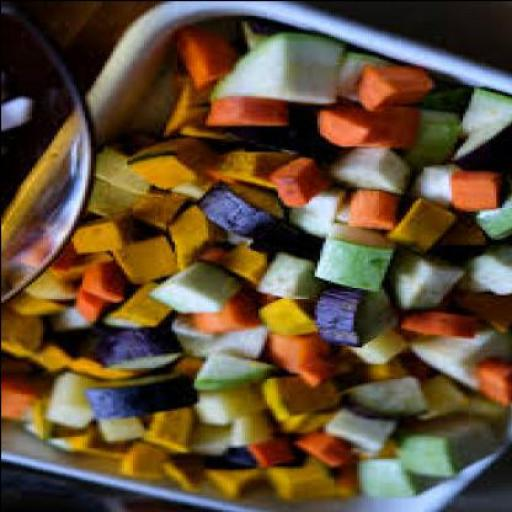biodegradable: (204, 31, 347, 108), (224, 104, 336, 169), (394, 422, 496, 480), (411, 334, 511, 392), (321, 286, 400, 350), (148, 260, 241, 314), (193, 179, 260, 253), (389, 251, 468, 313), (450, 85, 511, 165), (89, 376, 201, 419), (322, 227, 394, 292), (129, 143, 212, 194), (173, 322, 271, 365), (330, 148, 411, 198), (176, 28, 235, 95), (92, 330, 185, 372), (392, 201, 458, 259), (338, 380, 431, 419), (336, 54, 406, 105), (361, 68, 437, 114), (406, 112, 464, 170), (318, 110, 398, 152), (112, 234, 178, 284), (207, 96, 294, 132), (194, 356, 274, 395), (324, 410, 397, 452), (272, 460, 338, 505), (168, 214, 221, 270), (194, 296, 264, 338), (426, 378, 492, 422), (272, 378, 338, 421), (260, 256, 324, 300), (356, 462, 422, 504), (277, 156, 330, 207), (162, 82, 210, 138), (226, 149, 288, 192), (134, 190, 196, 232), (50, 372, 101, 423), (11, 266, 79, 304), (277, 338, 338, 380), (114, 286, 174, 328), (33, 404, 90, 446), (98, 149, 148, 196), (297, 190, 344, 240), (73, 218, 134, 256), (258, 302, 322, 338), (400, 313, 479, 342), (464, 249, 512, 296), (459, 292, 511, 334), (81, 262, 128, 308), (450, 170, 501, 212), (3, 378, 50, 422), (3, 315, 50, 359), (148, 411, 196, 454), (67, 428, 131, 460), (9, 292, 75, 322), (350, 190, 397, 232), (213, 464, 266, 501), (196, 390, 263, 419), (23, 238, 87, 268), (302, 432, 353, 469), (227, 248, 271, 290), (232, 16, 280, 54), (92, 180, 140, 218), (123, 440, 165, 482), (356, 336, 408, 368), (475, 199, 511, 245), (417, 168, 456, 210), (28, 345, 82, 374), (193, 423, 233, 462), (235, 414, 277, 450), (249, 434, 294, 467), (168, 456, 207, 493), (184, 121, 244, 145), (481, 363, 511, 411), (409, 417, 481, 437), (78, 285, 113, 325), (198, 415, 233, 454), (364, 361, 411, 386), (473, 402, 507, 436), (302, 358, 344, 385), (437, 223, 481, 248), (426, 88, 472, 110), (104, 419, 146, 443), (178, 176, 213, 202), (221, 448, 260, 470), (72, 302, 104, 328), (333, 470, 357, 504), (93, 365, 140, 382), (70, 350, 106, 372)
glass: (2, 2, 101, 307)
